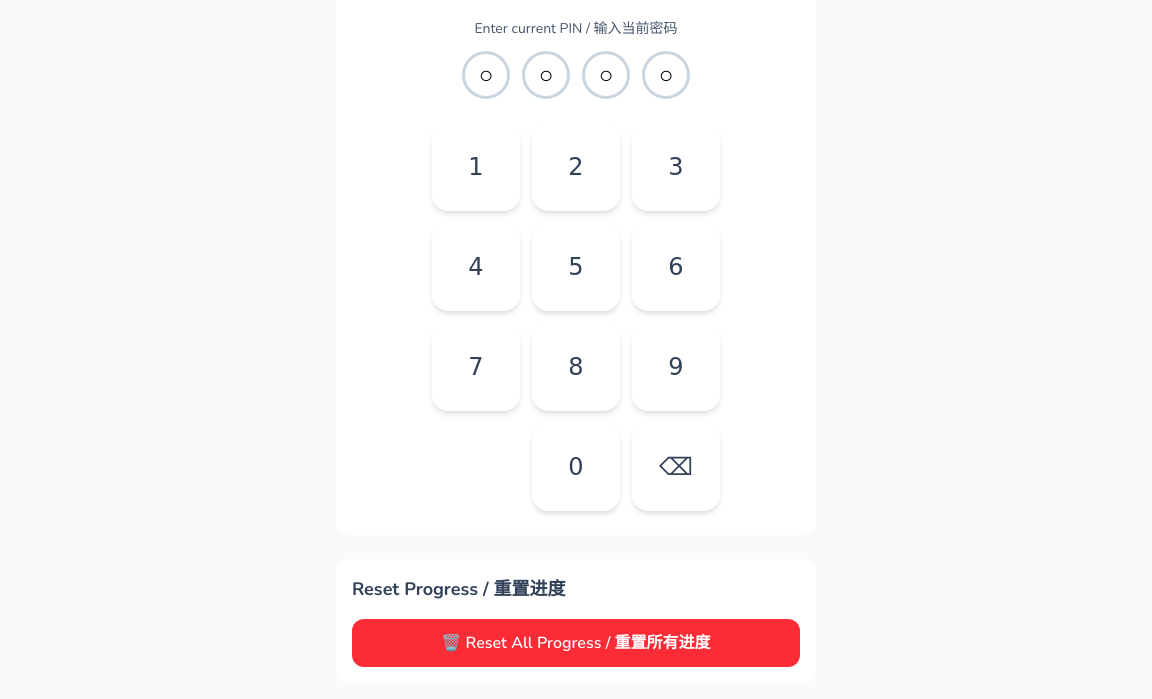
Test: ParentSettings › closes reset dialog on Cancel
The width and height of the screenshot is (1152, 699).
(page scrolled)
Click the button "🗑️ Reset All Progress / 重置所有进度": (576, 643) [352,619,800,667]
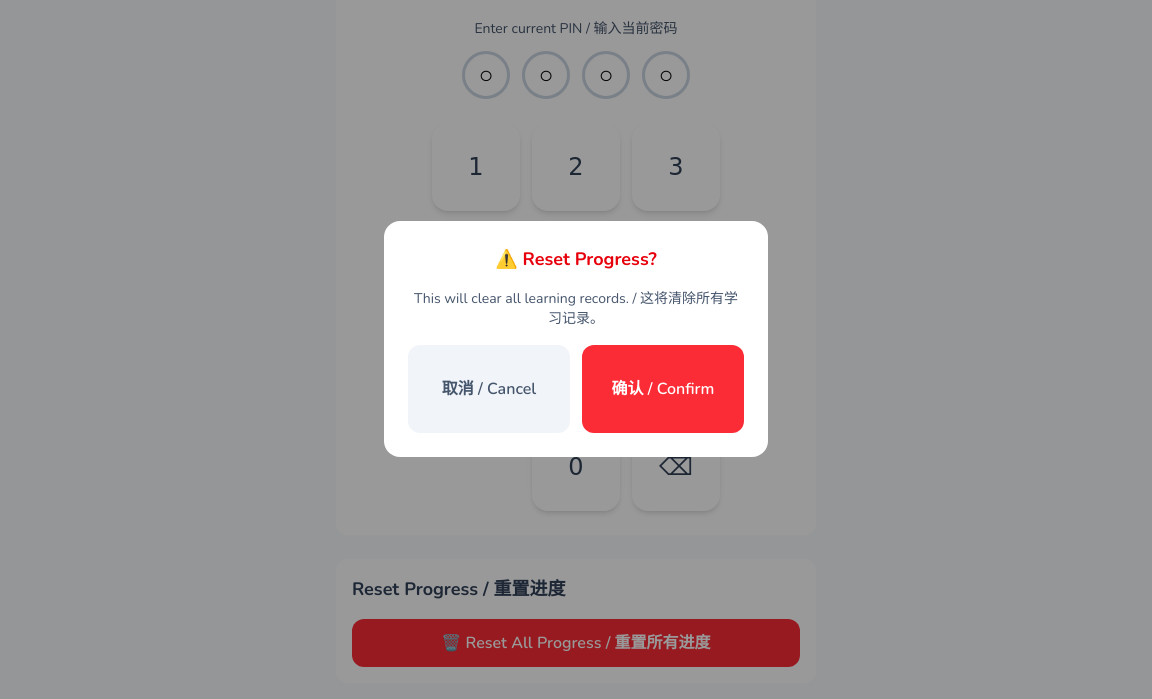
Result: the button "取消 / Cancel" is shown
Click the button "取消 / Cancel": (489, 389) [408,345,570,433]
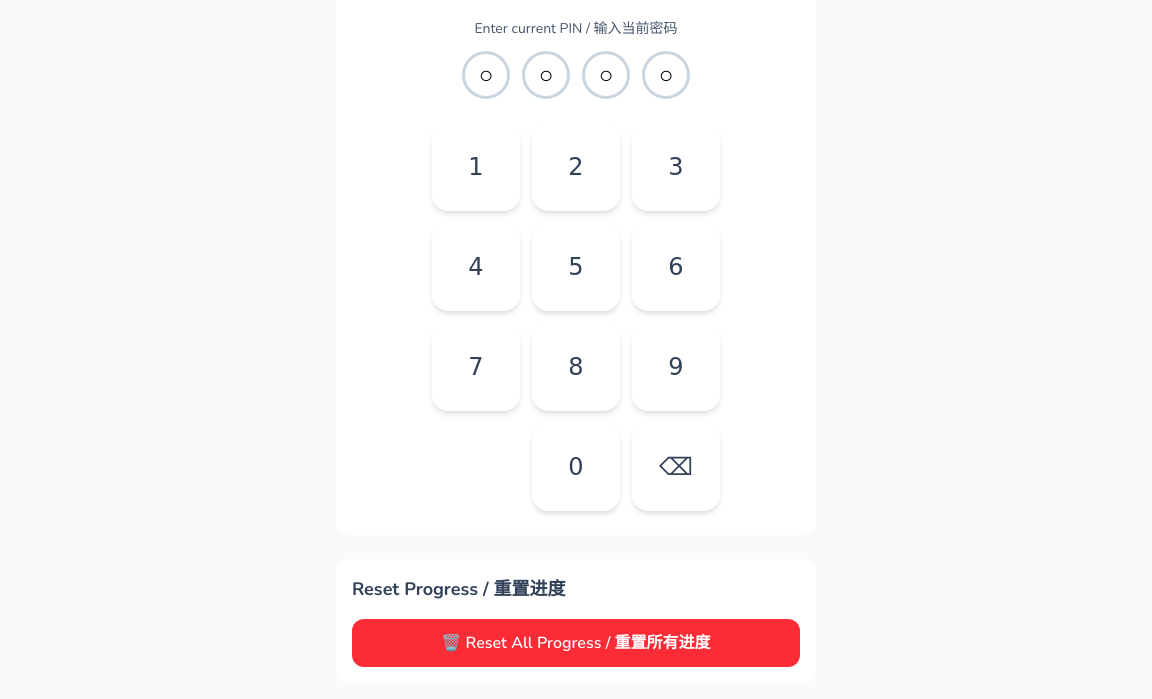
Result: the heading "Reset Progress?" is gone
